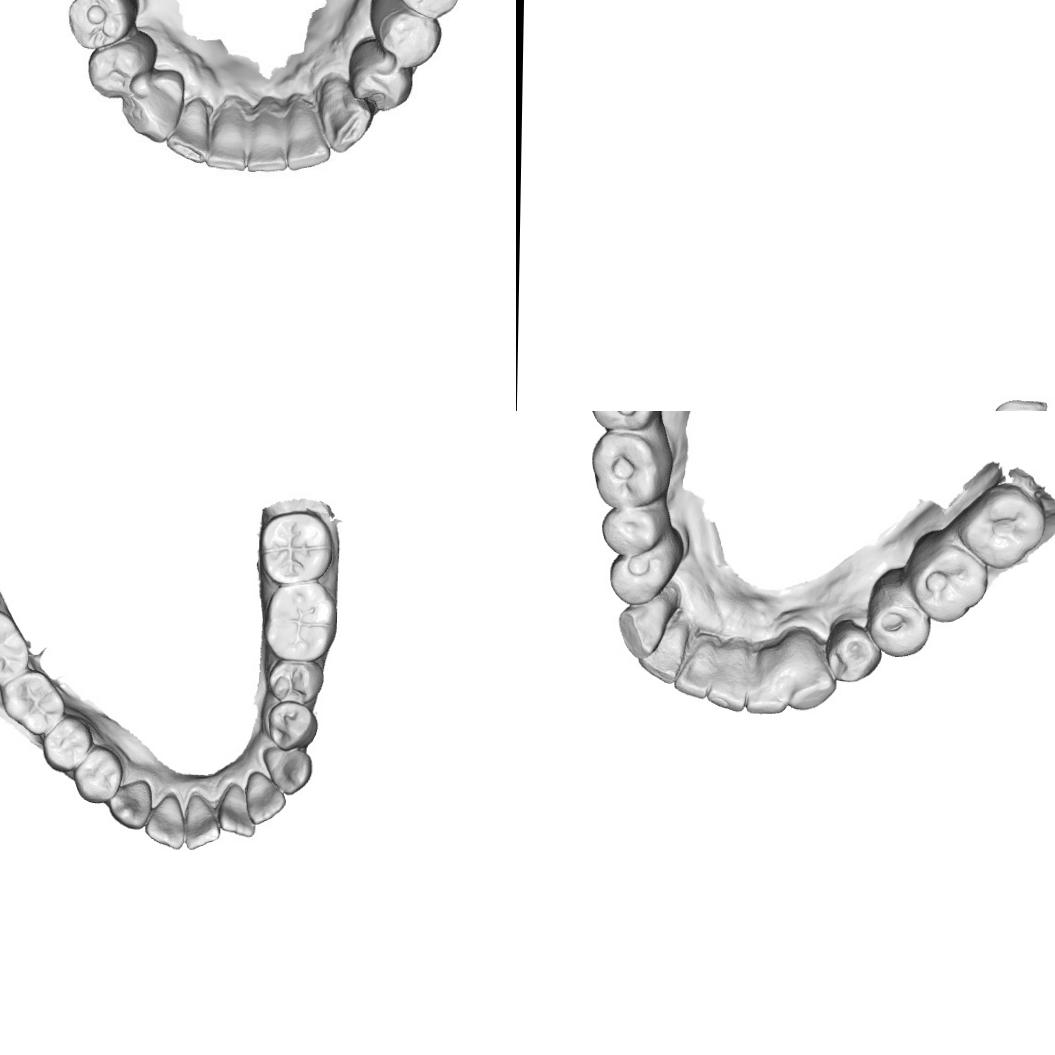canine: (780, 634, 838, 714), (321, 74, 374, 156), (124, 72, 183, 142), (616, 598, 671, 662), (260, 744, 314, 796), (106, 776, 154, 831)
incisor: (246, 100, 293, 176), (282, 101, 332, 171), (166, 97, 216, 166), (636, 621, 689, 685), (704, 649, 752, 714), (208, 100, 250, 172), (742, 652, 788, 714), (671, 642, 718, 702), (144, 790, 188, 852), (182, 791, 224, 852), (217, 780, 258, 838), (243, 770, 285, 826)
molar: (952, 480, 1045, 571), (904, 532, 993, 624), (261, 582, 339, 664), (589, 429, 667, 510), (256, 509, 336, 586), (0, 666, 68, 738), (0, 605, 32, 688), (586, 411, 667, 431), (392, 0, 470, 20)
premolar: (866, 581, 933, 659), (86, 33, 156, 102), (373, 4, 441, 72), (350, 47, 414, 116), (606, 546, 676, 606), (824, 615, 883, 684), (63, 0, 138, 51), (598, 500, 667, 555), (39, 713, 93, 774), (72, 744, 126, 805), (264, 700, 320, 752), (265, 658, 326, 705)
